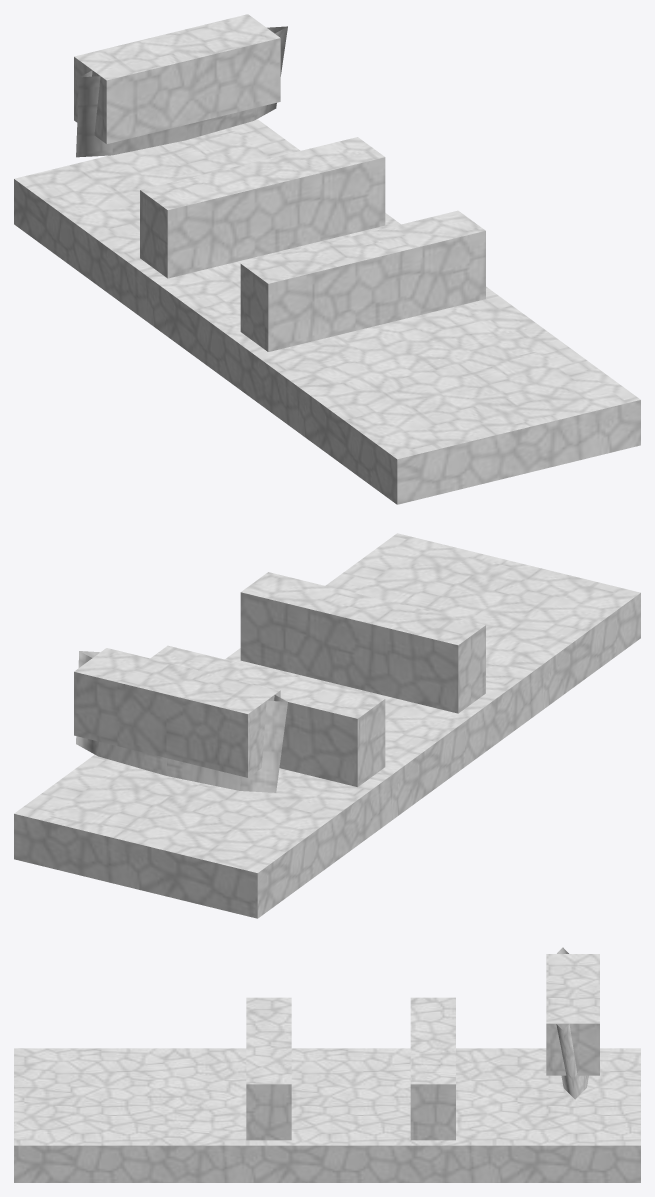
The model's file is shoes_sandals_l.glb.
The picture shows the model from 3 angles, top to bottom: view 1: azimuth 30°, elevation 25°; view 2: azimuth 150°, elevation 25°; view 3: azimuth 270°, elevation 25°; orthographic projection. The views are drawn at different scales.
Visible parts, largest first — view 1: shoes_sandals_l; view 2: shoes_sandals_l; view 3: shoes_sandals_l.
Boxes of the visible parts, box(x1,y1,x2,y2) form: shoes_sandals_l: box(14, 14, 640, 504); shoes_sandals_l: box(14, 533, 640, 918); shoes_sandals_l: box(14, 947, 640, 1182).
Size of the model in its own units: 0.112 by 0.078 by 0.305.
Materials: 1 (1 with a texture image).
